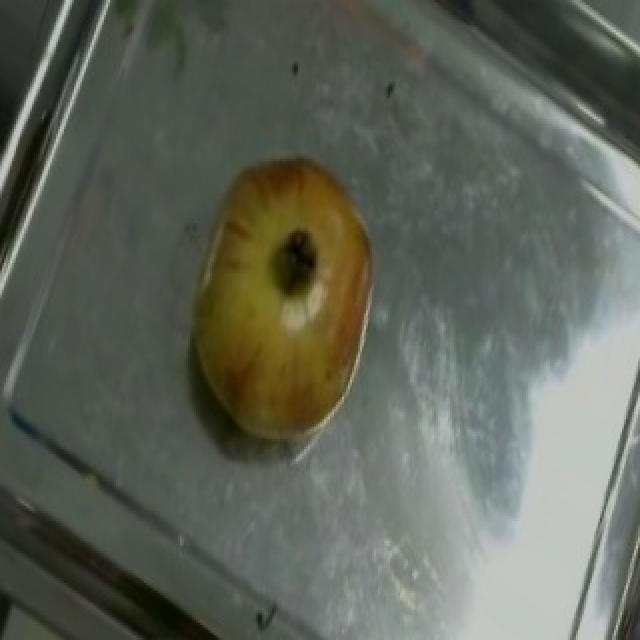fruit: (162, 126, 410, 394)
